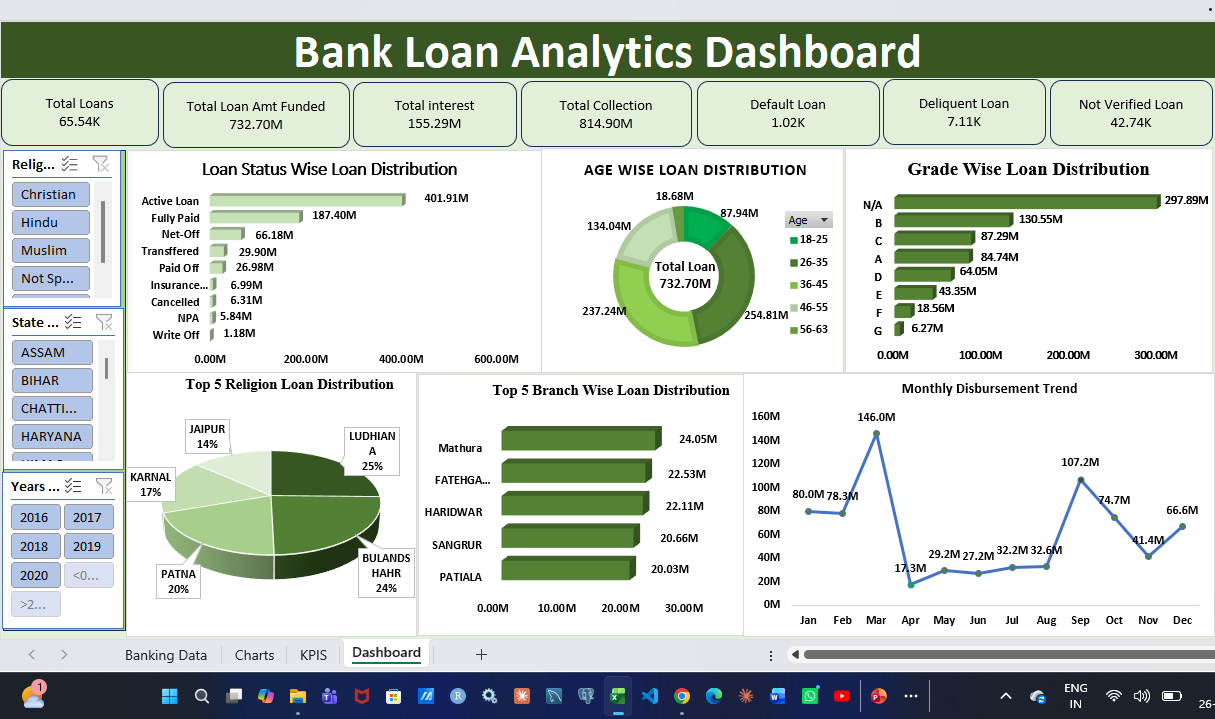

Layout of this report page (visuals, bound fields, positions):
{"tool":"powerbi","page":{"name":"Page 1","canvas":[1280,720],"ordinal":0},"visuals":[{"type":"card","fields":{"Values":["CountNonNull(Bank.Loanamount)"]},"box":[0,69.3,122.6,118.3],"z":0},{"type":"card","fields":{"Values":["Sum(Bank.Loanamount)"]},"box":[132.7,69.3,116.9,118.3],"z":1000},{"type":"card","fields":{"Values":["Sum(Bank.Totalrec_int)"]},"box":[249.6,69.3,122.6,118.3],"z":2000},{"type":"card","fields":{"Values":["Sum(Bank.Totalpymnt)"]},"box":[382.3,69.3,122.6,118.3],"z":3000},{"type":"card","fields":{"Values":["Bank.Count of Default"]},"box":[497.1,70,123.1,118.2],"z":4000},{"type":"card","fields":{"Values":["Bank.count of deliquent"]},"box":[628.4,69.4,123.4,118.2],"z":5000},{"type":"card","fields":{"Values":["Bank.No verified"]},"box":[751.8,69.4,123.4,118.2],"z":6000},{"type":"multiRowCard","fields":{"Values":["Bank.Default Loan Rate %","Bank.Deliquent_Rate %"]},"box":[875.9,74.8,179.8,112.2],"z":7000},{"type":"slicer","fields":{"Values":["Bank.Statename"]},"box":[1077.4,94.1,202.7,74.8],"z":8000},{"type":"slicer","fields":{"Values":["Bank.Loanstatus"]},"box":[1077.4,168.9,202.7,70],"z":9000},{"type":"slicer","fields":{"Values":["Bank.Age "]},"box":[1077.4,238.9,202.7,182.2],"z":10000},{"type":"lineChart","title":"Disbursement Trend ","fields":{"Y":["CountNonNull(Bank.Loanamount)"],"Category":["Bank.Disbursementdate.Variation.Date Hierarchy.Year"]},"box":[417.4,447.6,290.8,261.8],"z":11000},{"type":"barChart","title":"State wise Loan","fields":{"Category":["Bank.Statename"],"Y":["Sum(Bank.Loanamount)"]},"box":[15.7,445.2,399.3,272.7],"z":12000},{"type":"columnChart","title":"Loan Maturity","fields":{"Y":["Sum(Bank.Totalpymnt)"],"Category":["Bank.Loanmaturity.Variation.Date Hierarchy.Year"]},"box":[417.4,188.2,302.8,248.5],"z":13000},{"type":"donutChart","title":"   Product Group wise loan","fields":{"Category":["Bank.Productcategory"],"Y":["CountNonNull(Bank.Loanamount)"]},"box":[720.2,187,345,248.5],"z":14000},{"type":"pieChart","title":"Religion Wise Loan","fields":{"Category":["Bank.Religion"],"Y":["Sum(Bank.Loanamount)"]},"box":[720.2,436.7,345,281.1],"z":15000},{"type":"slicer","fields":{"Values":["Bank.Grade"]},"box":[1077.4,421,202.7,296.8],"z":16000},{"type":"textbox","box":[1077.4,6,202.7,88.1],"z":17000},{"type":"textbox","box":[15.7,12.1,489.8,59.1],"z":18000},{"type":"barChart","fields":{"Y":["Bank.Revenue"],"Category":["Bank.Branchname"]},"box":[15.9,187.6,399.6,249.6],"z":19000},{"type":"slicer","fields":{"Values":["Branchwise.Branchwise"]},"box":[191.9,180.3,142.8,46.2],"z":20000}]}

Visuals, with their boxes on the page's 1280x720 design canvas (x1, y1, x2, y2). These are canvas units, not pixel positions in the 1215x719 screenshot, which may show the page scaled, cropped or inside an application window:
card - CountNonNull(Bank.Loanamount): 0, 69, 123, 188
card - Sum(Bank.Loanamount): 133, 69, 250, 188
card - Sum(Bank.Totalrec_int): 250, 69, 372, 188
card - Sum(Bank.Totalpymnt): 382, 69, 505, 188
card - Bank.Count of Default: 497, 70, 620, 188
card - Bank.count of deliquent: 628, 69, 752, 188
card - Bank.No verified: 752, 69, 875, 188
multiRowCard - Bank.Default Loan Rate % x Bank.Deliquent_Rate %: 876, 75, 1056, 187
slicer - Bank.Statename: 1077, 94, 1280, 169
slicer - Bank.Loanstatus: 1077, 169, 1280, 239
slicer - Bank.Age : 1077, 239, 1280, 421
"Disbursement Trend " lineChart: 417, 448, 708, 709
"State wise Loan" barChart: 16, 445, 415, 718
"Loan Maturity" columnChart: 417, 188, 720, 437
"   Product Group wise loan" donutChart: 720, 187, 1065, 436
"Religion Wise Loan" pieChart: 720, 437, 1065, 718
slicer - Bank.Grade: 1077, 421, 1280, 718
textbox: 1077, 6, 1280, 94
textbox: 16, 12, 506, 71
barChart - Bank.Revenue x Bank.Branchname: 16, 188, 416, 437
slicer - Branchwise.Branchwise: 192, 180, 335, 226
